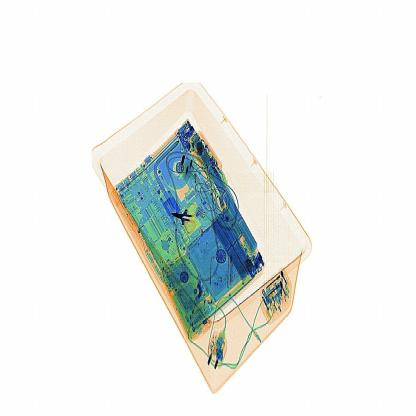gun: (162, 195, 207, 235)
